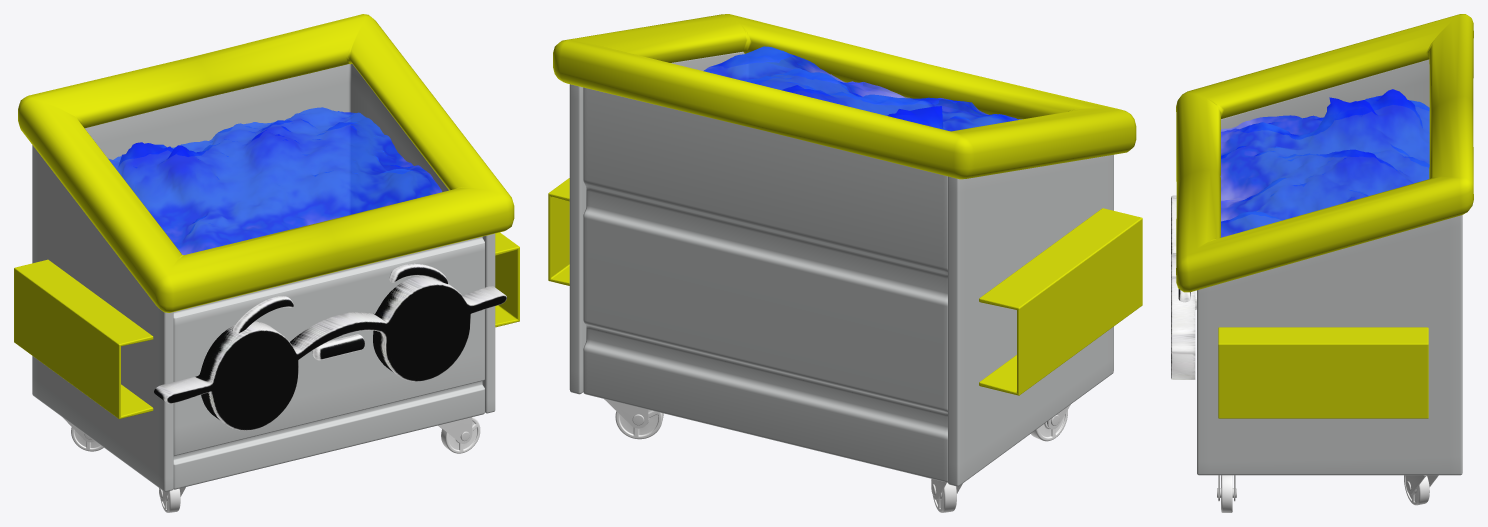
3 views of the same model, side by side, from view 1: azimuth 30°, elevation 25°; view 2: azimuth 150°, elevation 25°; view 3: azimuth 270°, elevation 25° (orthographic). The views are drawn at different scales.
Parts seen in each view (by area): view 1: Dumpster Geometry, Explosion Fire Base.002, Wheel Holder; view 2: Dumpster Geometry, Explosion Fire Base.002, Wheel Holder; view 3: Dumpster Geometry, Explosion Fire Base.002, Wheel Holder.
Part boxes in pixels (x1=…): Dumpster Geometry: x1=14, y1=14, x2=519, y2=512; Explosion Fire Base.002: x1=108, y1=107, x2=441, y2=254; Wheel Holder: x1=63, y1=417, x2=472, y2=501; Dumpster Geometry: x1=548, y1=14, x2=1142, y2=512; Explosion Fire Base.002: x1=703, y1=46, x2=1022, y2=131; Wheel Holder: x1=604, y1=399, x2=1070, y2=499; Dumpster Geometry: x1=1171, y1=14, x2=1473, y2=512; Explosion Fire Base.002: x1=1220, y1=89, x2=1429, y2=237; Wheel Holder: x1=1217, y1=475, x2=1438, y2=501.
Size of what is drawn, in the model's own units: 2.3 by 1.89 by 1.51.
Materials: 8 (4 with a texture image).
